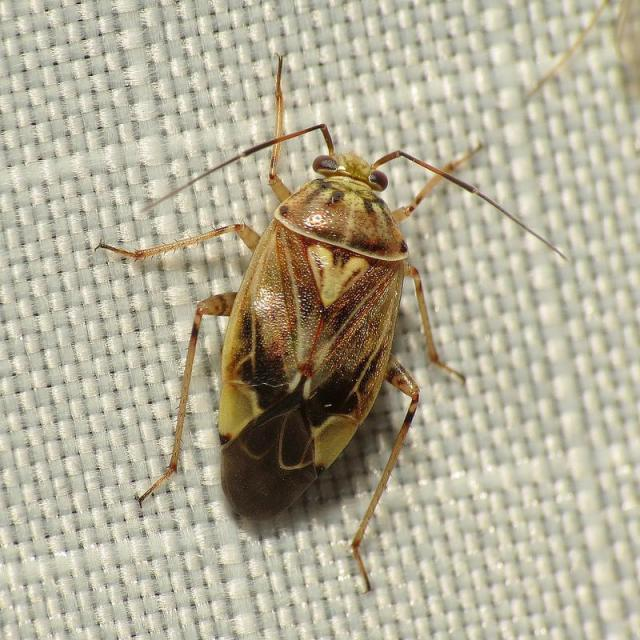Miridae-Adult-: (140, 36, 473, 604)
